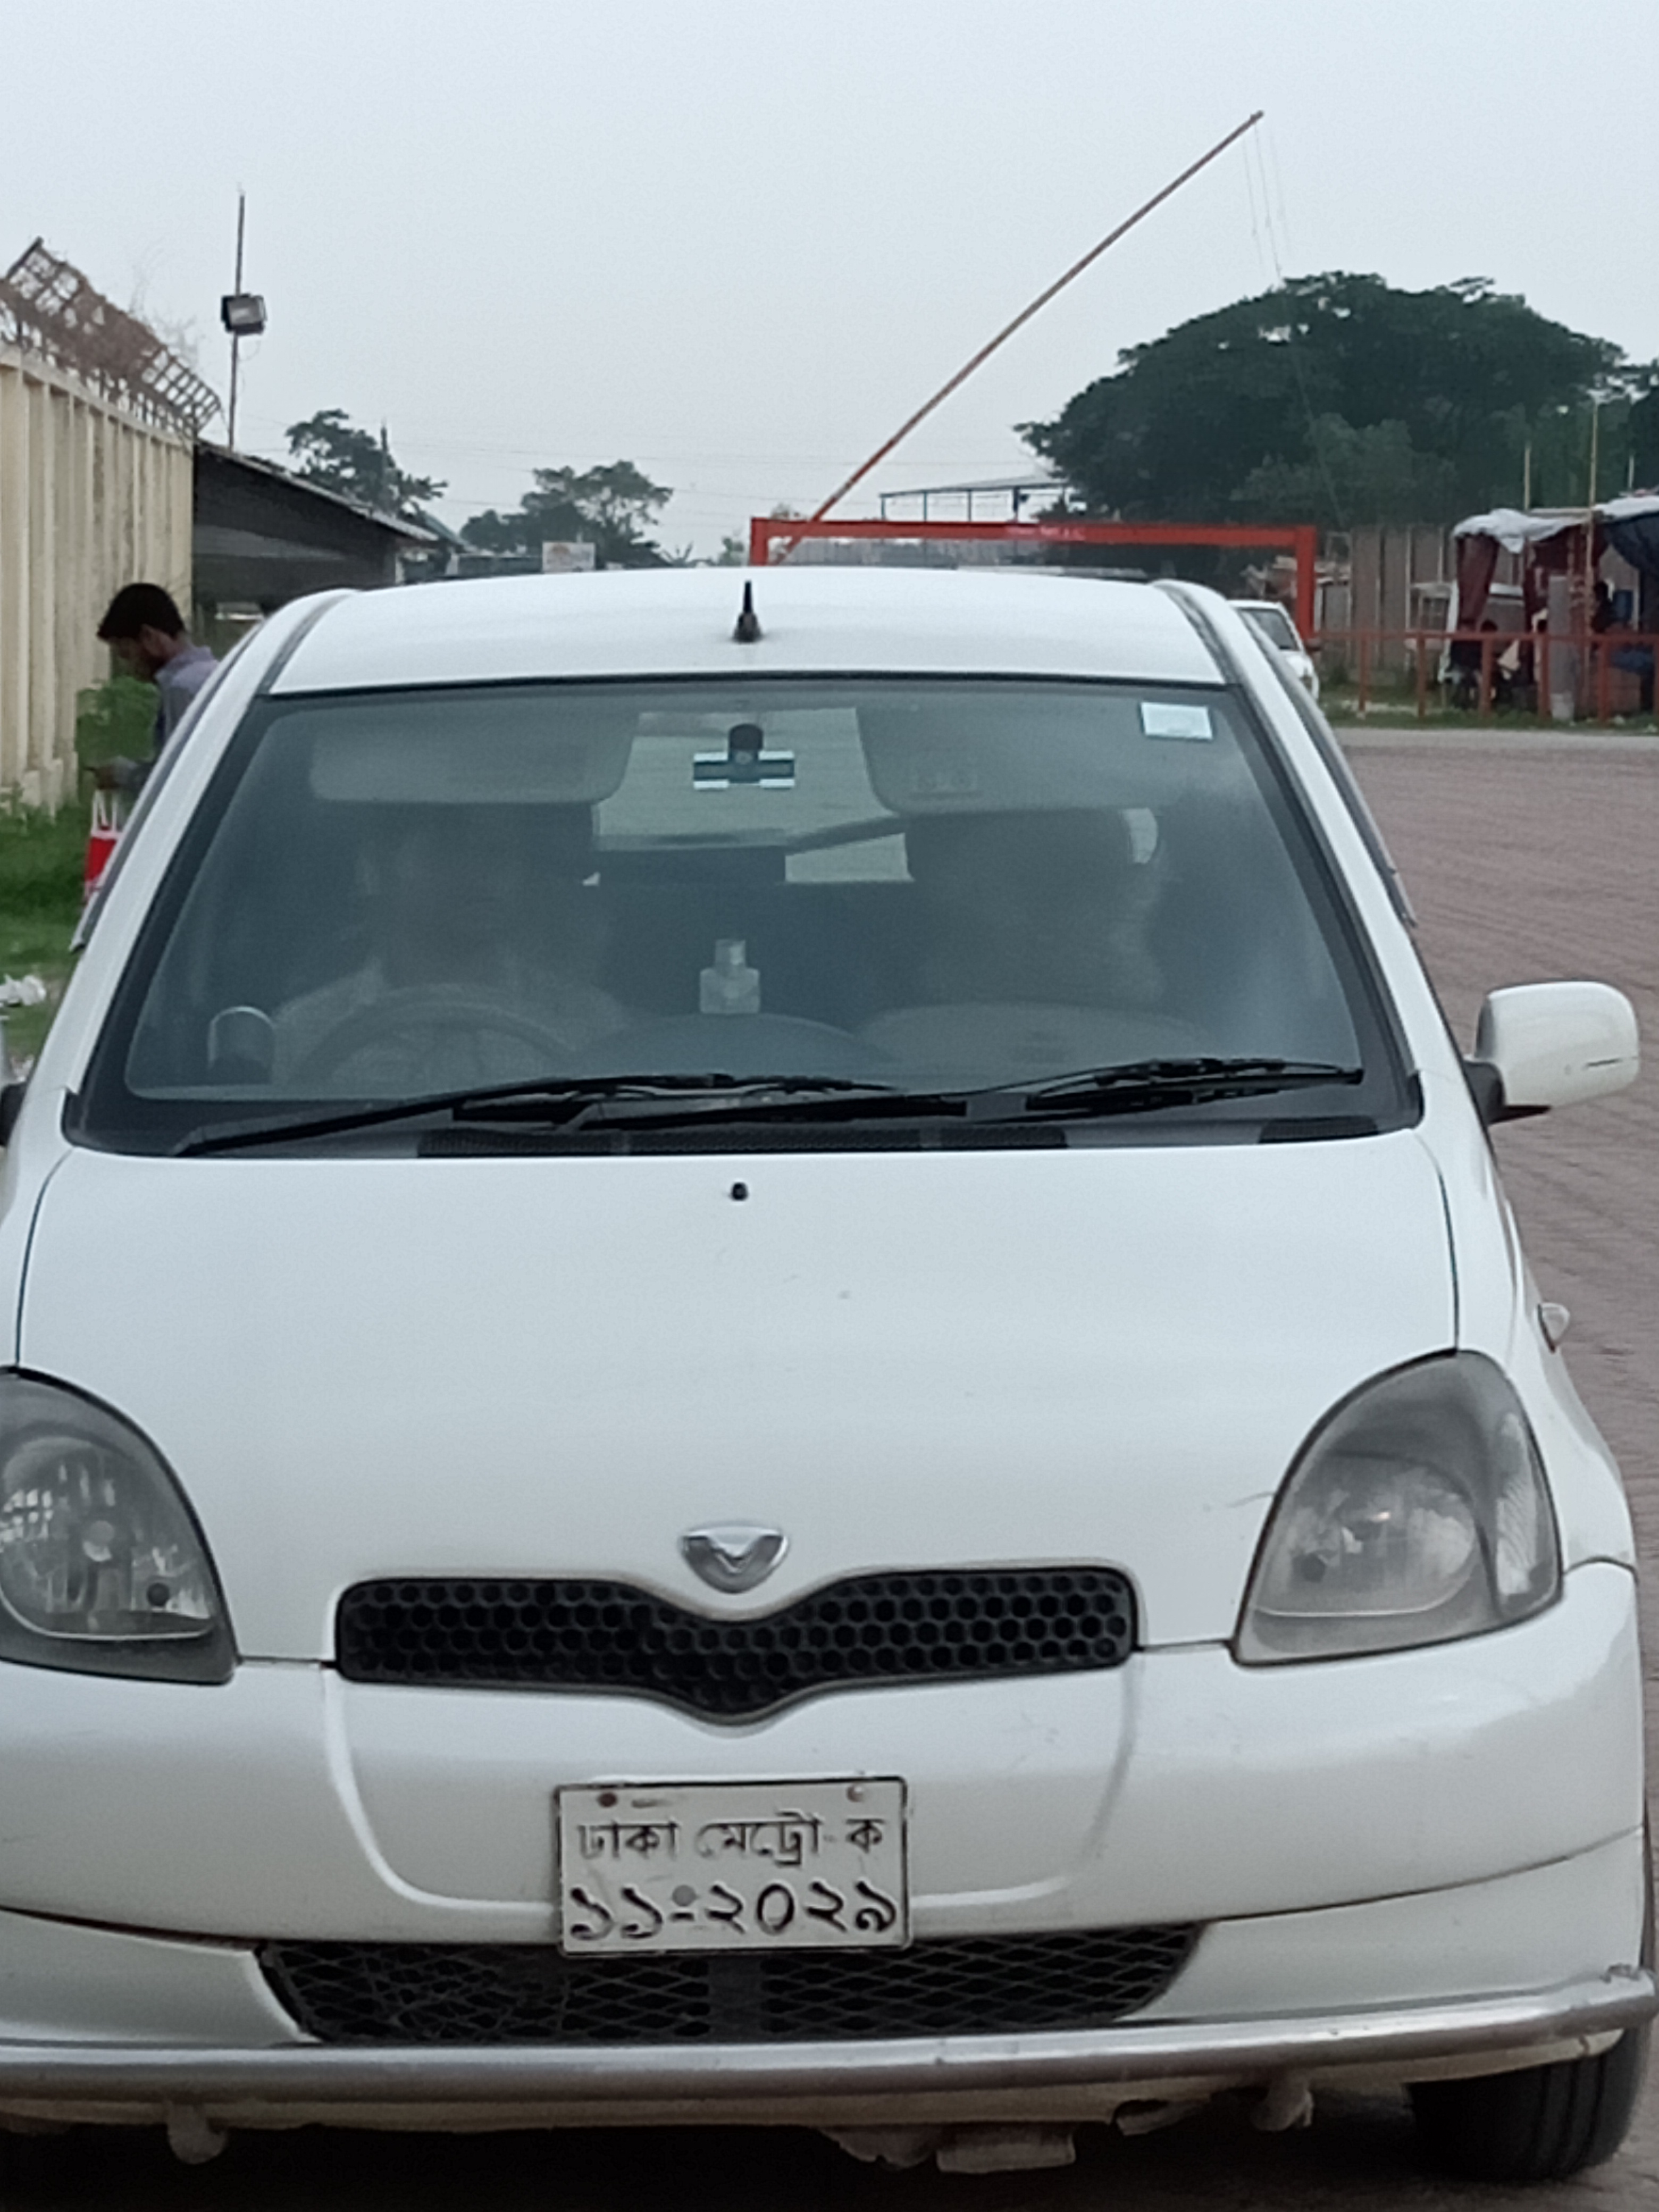car: (0, 563, 1626, 2196)
